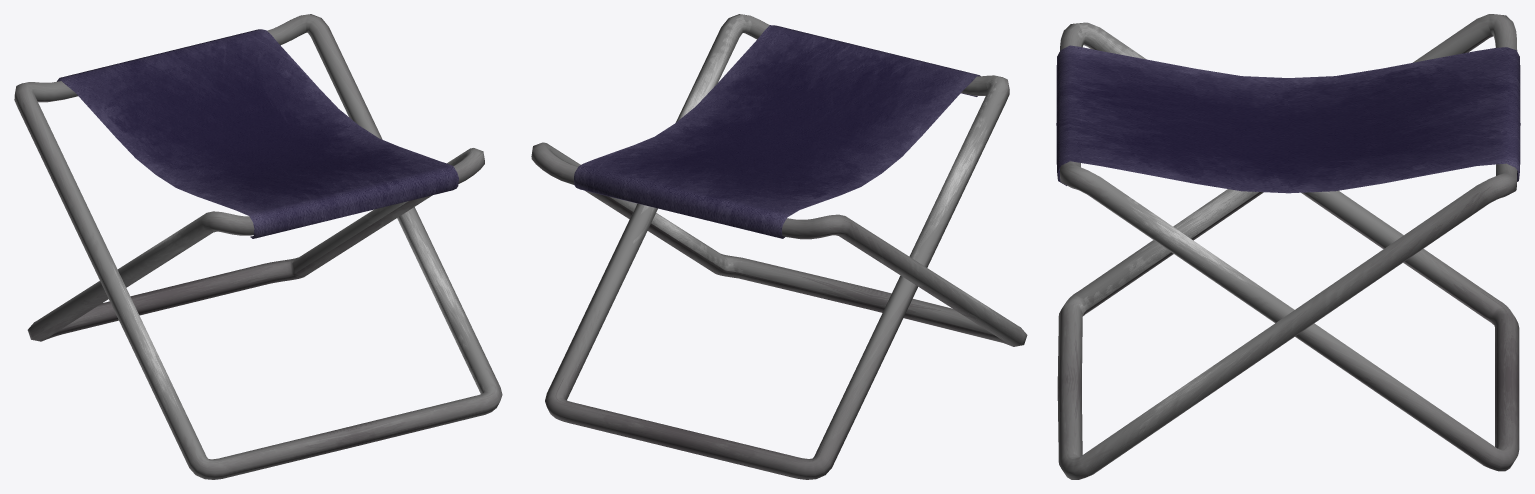
Rendered from Camping chair.fbx.
The picture shows the model from 3 angles, left to right: view 1: azimuth 30°, elevation 25°; view 2: azimuth 150°, elevation 25°; view 3: azimuth 270°, elevation 25°; orthographic projection. The views are drawn at different scales.
Parts seen in each view (by area): view 1: Plane, Chair curve.001, Chair curve.002; view 2: Plane, Chair curve.002, Chair curve.001; view 3: Plane, Chair curve.001, Chair curve.002.
Part boxes in pixels (x1,y1,x2,y2): Plane: (57, 29, 458, 238); Chair curve.001: (14, 14, 502, 479); Chair curve.002: (27, 148, 484, 341); Plane: (574, 25, 980, 238); Chair curve.002: (545, 14, 1009, 479); Chair curve.001: (531, 142, 1027, 346); Plane: (1056, 45, 1520, 193); Chair curve.001: (1057, 14, 1517, 479); Chair curve.002: (1060, 22, 1519, 471).
Bounding box in the file's own units: 103 × 83.01 × 115.
